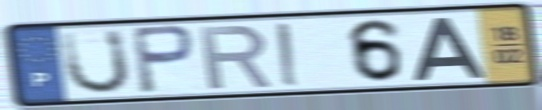6: (345, 17, 406, 85)
A: (410, 15, 489, 83)
I: (273, 20, 303, 89)
P: (128, 23, 198, 96)
R: (196, 23, 276, 92)
U: (59, 27, 133, 97)
